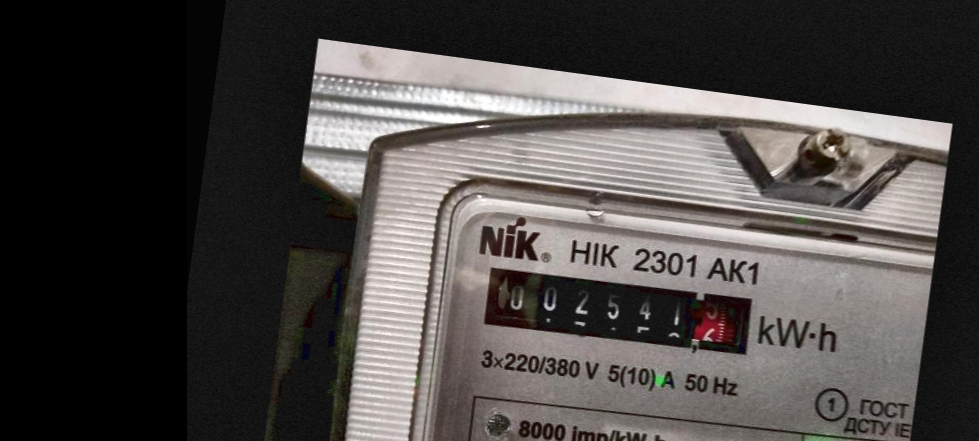0: (539, 278, 562, 314), (508, 280, 528, 311)
1: (666, 292, 686, 327)
2: (569, 281, 595, 318)
4: (635, 289, 656, 322)
5: (603, 288, 623, 322)
6: (699, 321, 718, 344)
screen: (467, 246, 776, 376)
